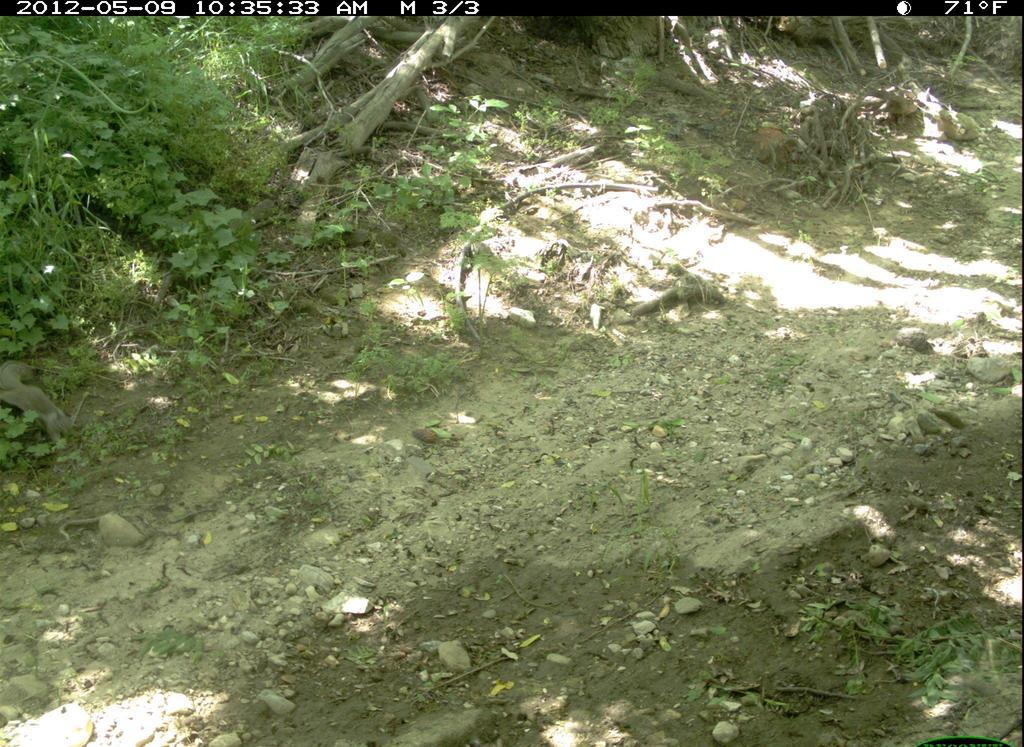squirrel: (1, 355, 79, 449)
